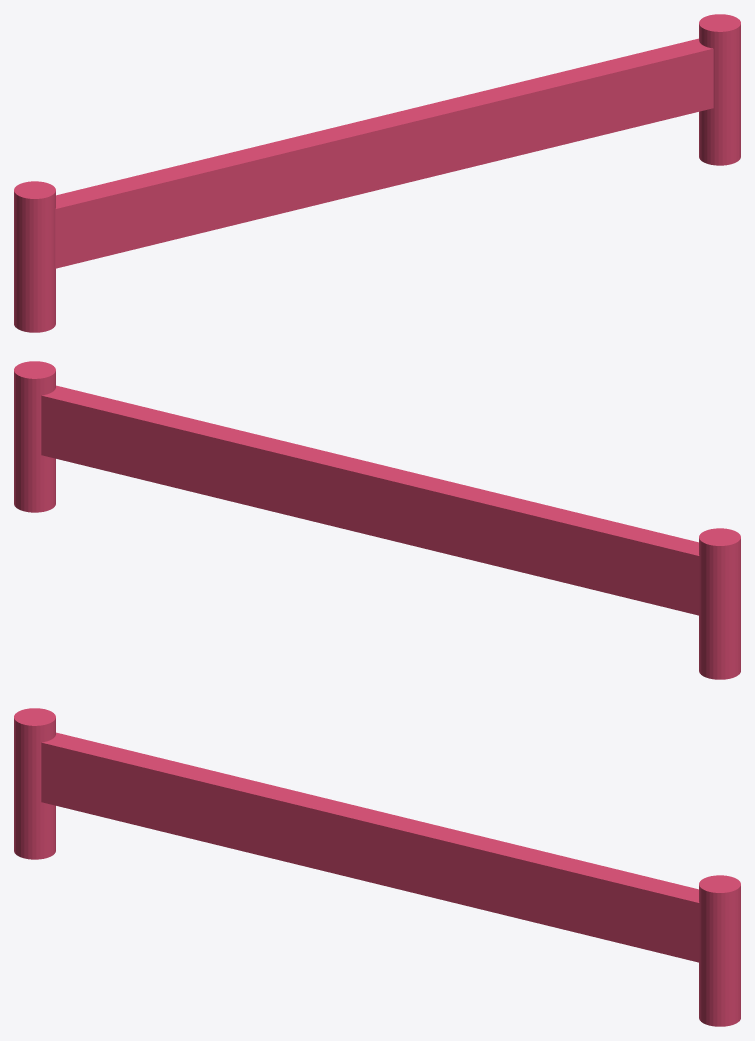
The model's file is fence.fbx.
3 views of the same model, one above another, from view 1: azimuth 30°, elevation 25°; view 2: azimuth 150°, elevation 25°; view 3: azimuth 330°, elevation 25° (orthographic).
Visible parts, largest first — view 1: fence, poles; view 2: fence, poles; view 3: fence, poles.
Boxes of the visible parts, box(x1,y1,x2,y2) form: fence: box(55, 38, 713, 268); poles: box(14, 14, 740, 332); fence: box(41, 385, 699, 615); poles: box(14, 361, 740, 679); fence: box(41, 732, 699, 962); poles: box(14, 708, 740, 1026).
Size of the model in its own units: 210 by 37.28 by 10.62.
